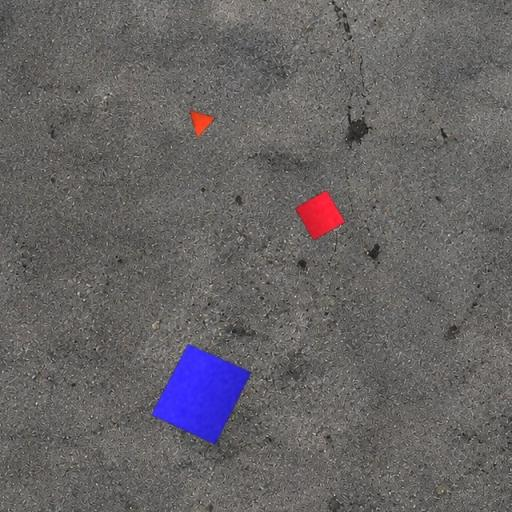BLUE_SQUARE: (151, 343, 252, 446)
RED_SQUARE: (294, 190, 346, 240)
